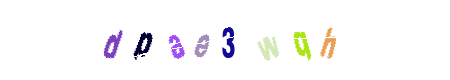3: (185, 0, 265, 80)
A: (139, 0, 219, 80)
D: (103, 0, 183, 80)
E: (184, 0, 264, 80)
H: (289, 0, 369, 80)
P: (104, 0, 184, 80)
Q: (262, 0, 342, 80)
W: (237, 0, 317, 80)
